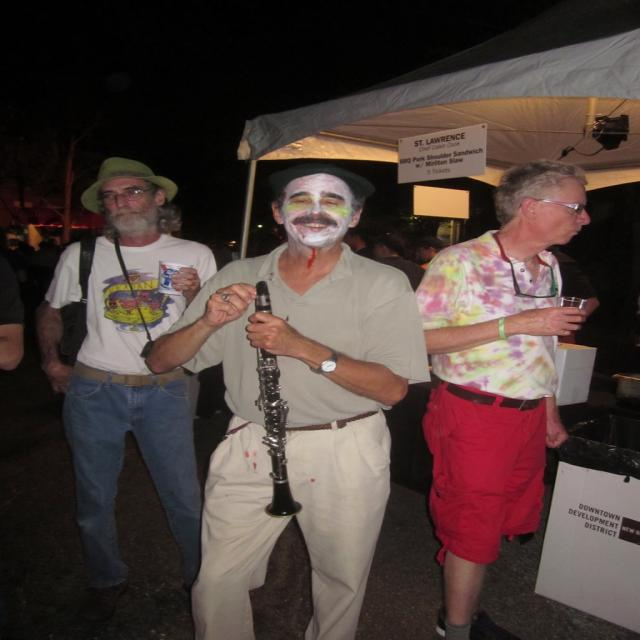Hat: (81, 158, 177, 218)
